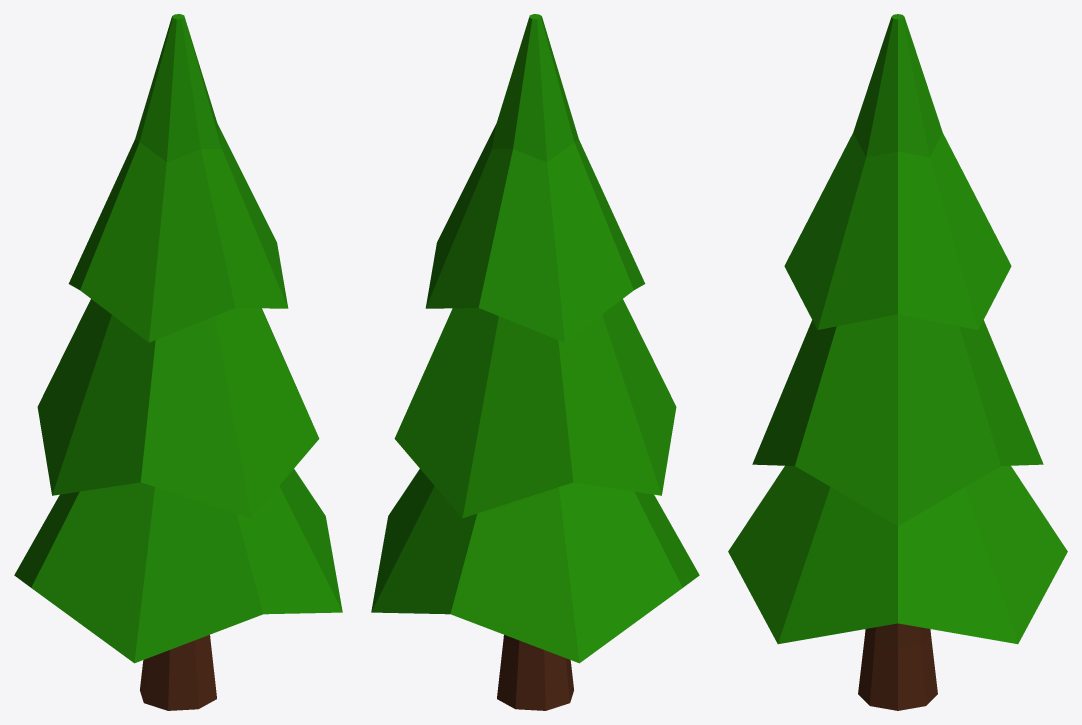
Rendered from PinoC.fbx.
3 renders of one model, left to right at view 1: azimuth 30°, elevation 25°; view 2: azimuth 150°, elevation 25°; view 3: azimuth 270°, elevation 25°, orthographic.
Visible parts, largest first — view 1: ArbolC; view 2: ArbolC; view 3: ArbolC.
Boxes of the visible parts, x1,y1,x2,y2 form: ArbolC: (14, 14, 342, 710); ArbolC: (371, 14, 699, 710); ArbolC: (728, 14, 1067, 710).
Size of the model in its own units: 341 by 750 by 341.
